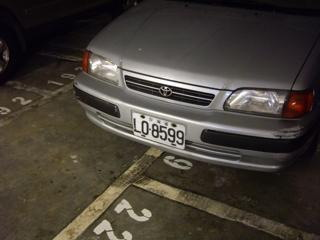plate: (129, 109, 188, 152)
